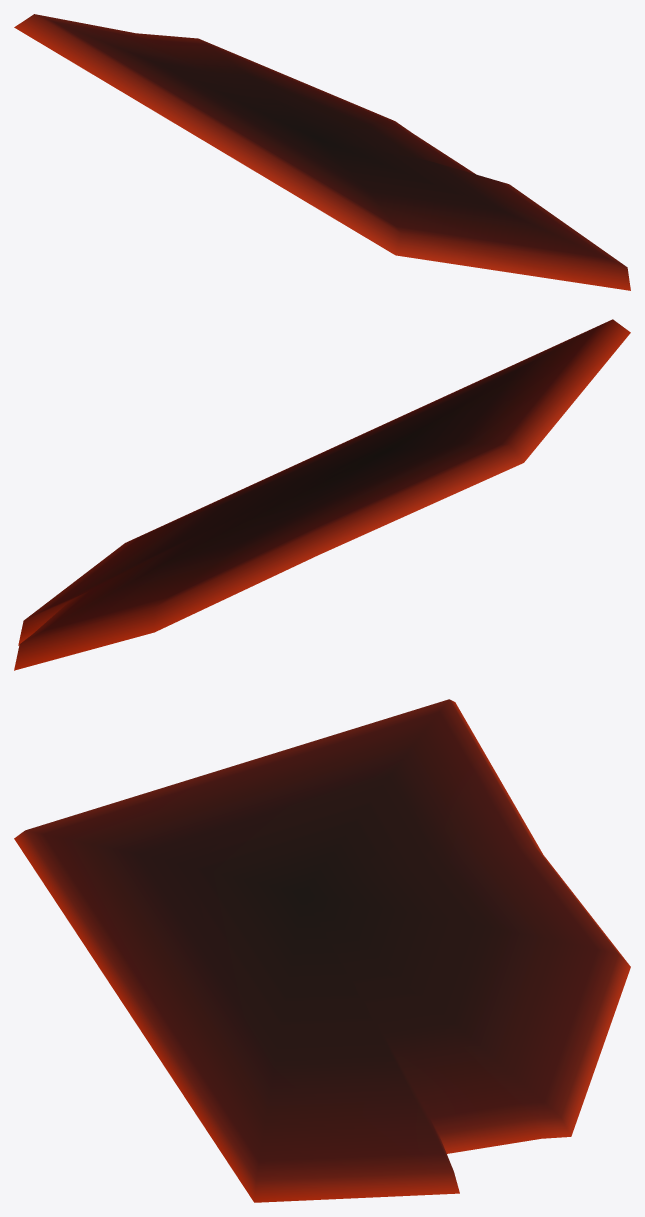
The model's file is raft_30.glb.
The picture shows the model from 3 angles, top to bottom: view 1: azimuth 30°, elevation 25°; view 2: azimuth 150°, elevation 25°; view 3: azimuth 270°, elevation 25°; orthographic projection. The views are drawn at different scales.
Visible parts, largest first — view 1: raft; view 2: raft; view 3: raft.
Part boxes in pixels (bbox=[...]): raft: bbox=[14, 14, 630, 290]; raft: bbox=[14, 319, 630, 670]; raft: bbox=[14, 699, 630, 1202].
Bounding box in the file's own units: 1.25 × 0.752 × 1.46.
